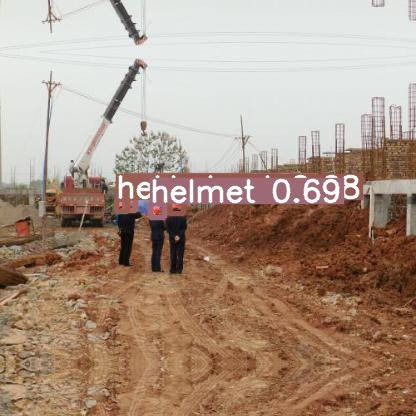helmet: (169, 199, 183, 213), (150, 203, 164, 217), (124, 198, 135, 210), (116, 199, 127, 211)
